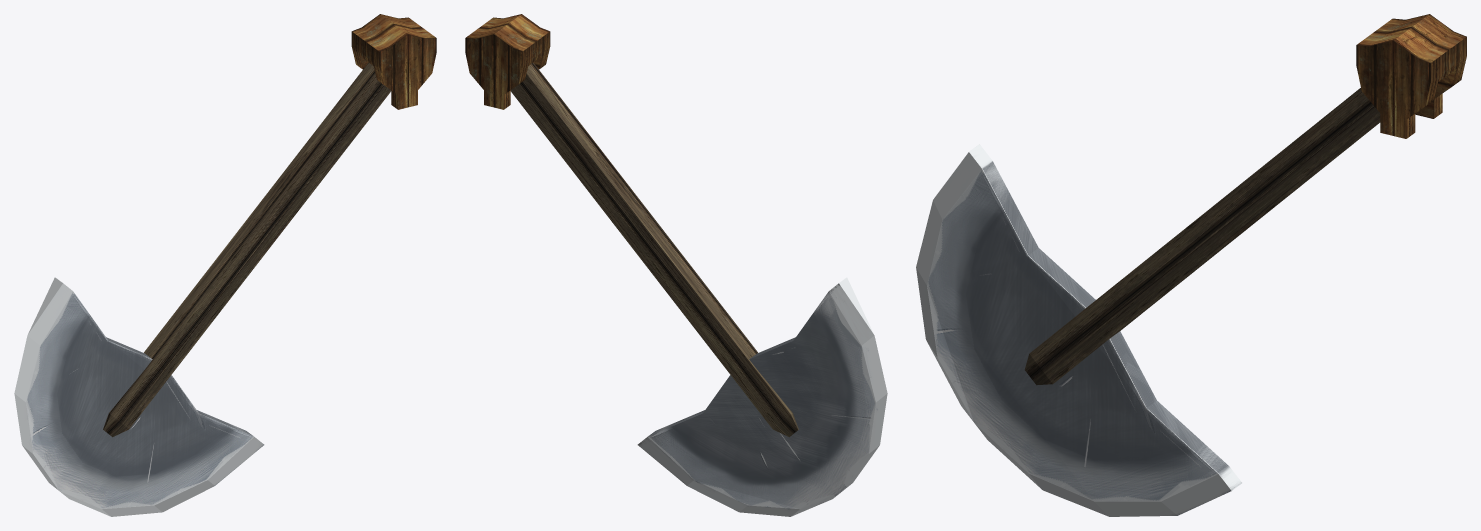
Rendered from pendulum_blade.glb.
3 renders of one model, left to right at view 1: azimuth 30°, elevation 25°; view 2: azimuth 150°, elevation 25°; view 3: azimuth 330°, elevation 25°, orthographic. The views are drawn at different scales.
Parts seen in each view (by area): view 1: PendulumBlade, PendulumHolder; view 2: PendulumBlade, PendulumHolder; view 3: PendulumBlade, PendulumHolder.
Boxes of the visible parts, <box> form: PendulumBlade: <box>14,62,391,516</box>; PendulumHolder: <box>351,14,436,109</box>; PendulumBlade: <box>510,62,887,516</box>; PendulumHolder: <box>465,14,550,109</box>; PendulumBlade: <box>916,88,1380,516</box>; PendulumHolder: <box>1356,14,1466,138</box>.
Bounding box in the file's own units: 2.49 × 2.51 × 0.295.
3 materials, 3 textured.
